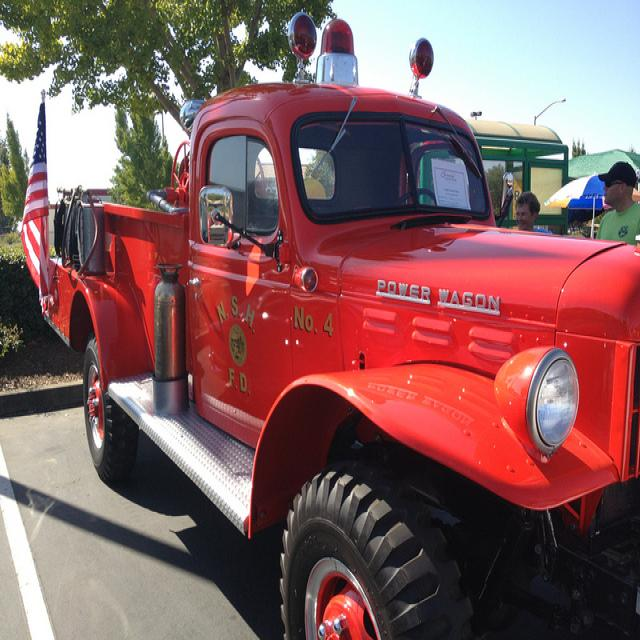Vehicle: (21, 13, 640, 628), (43, 16, 640, 634)
